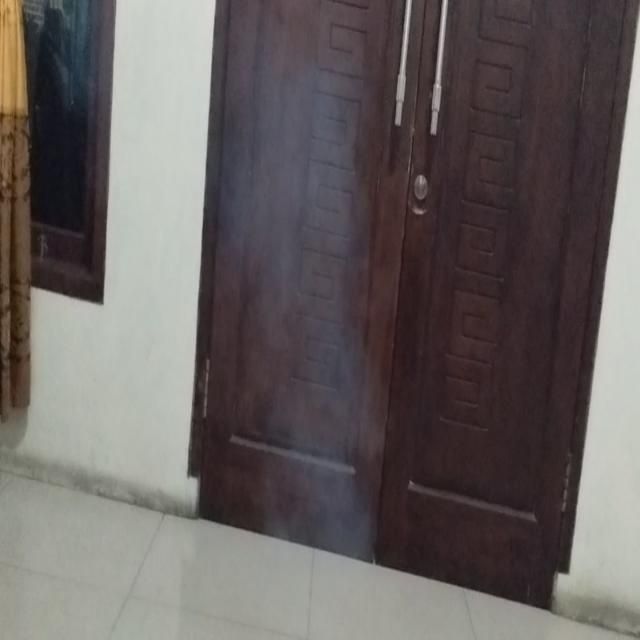smoke: (160, 71, 362, 550)
